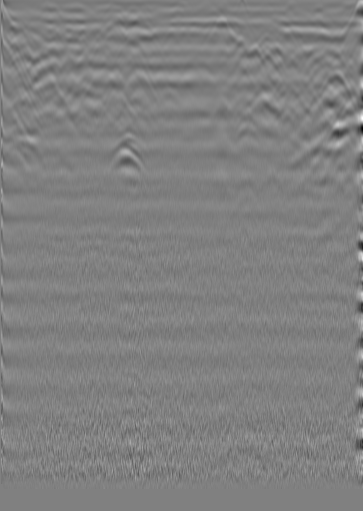가스: (106, 142, 145, 177)
상수: (31, 48, 51, 68)
오수: (319, 49, 339, 69)
우수: (165, 34, 185, 54)
